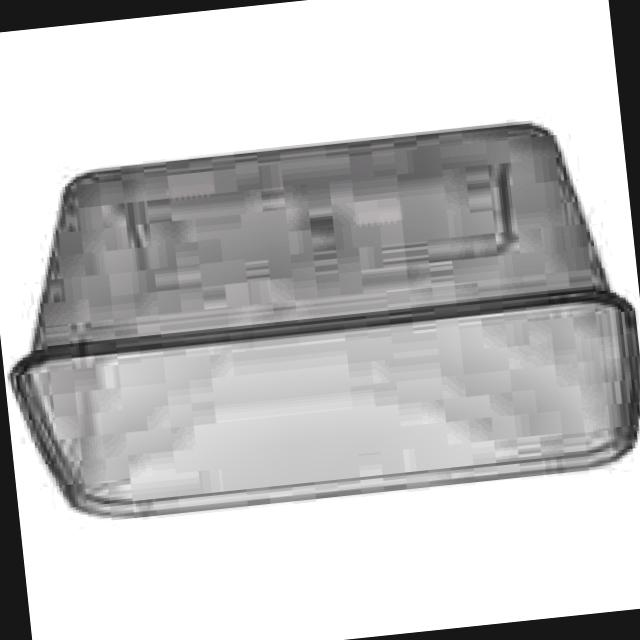plastic container: (11, 125, 640, 518)
